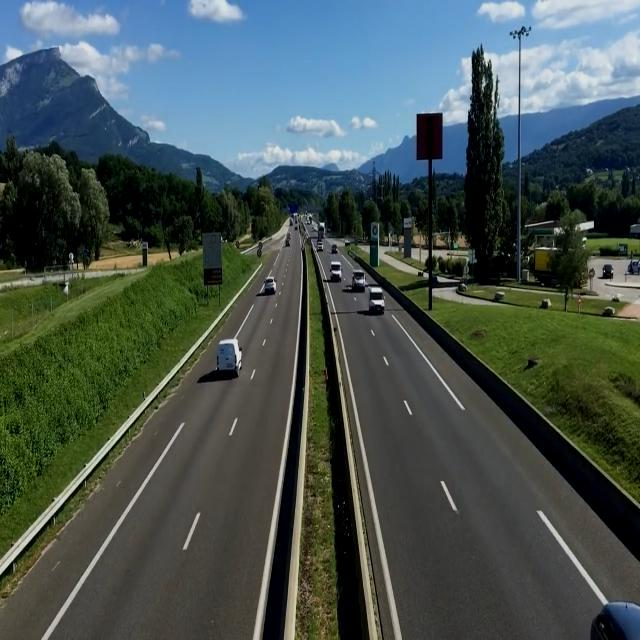Car: (263, 276, 277, 295), (627, 259, 640, 275), (602, 264, 613, 278), (316, 241, 324, 251), (331, 244, 338, 254)
Truck: (318, 222, 325, 239)
Van: (214, 340, 243, 379), (368, 286, 386, 314), (329, 262, 341, 281)
